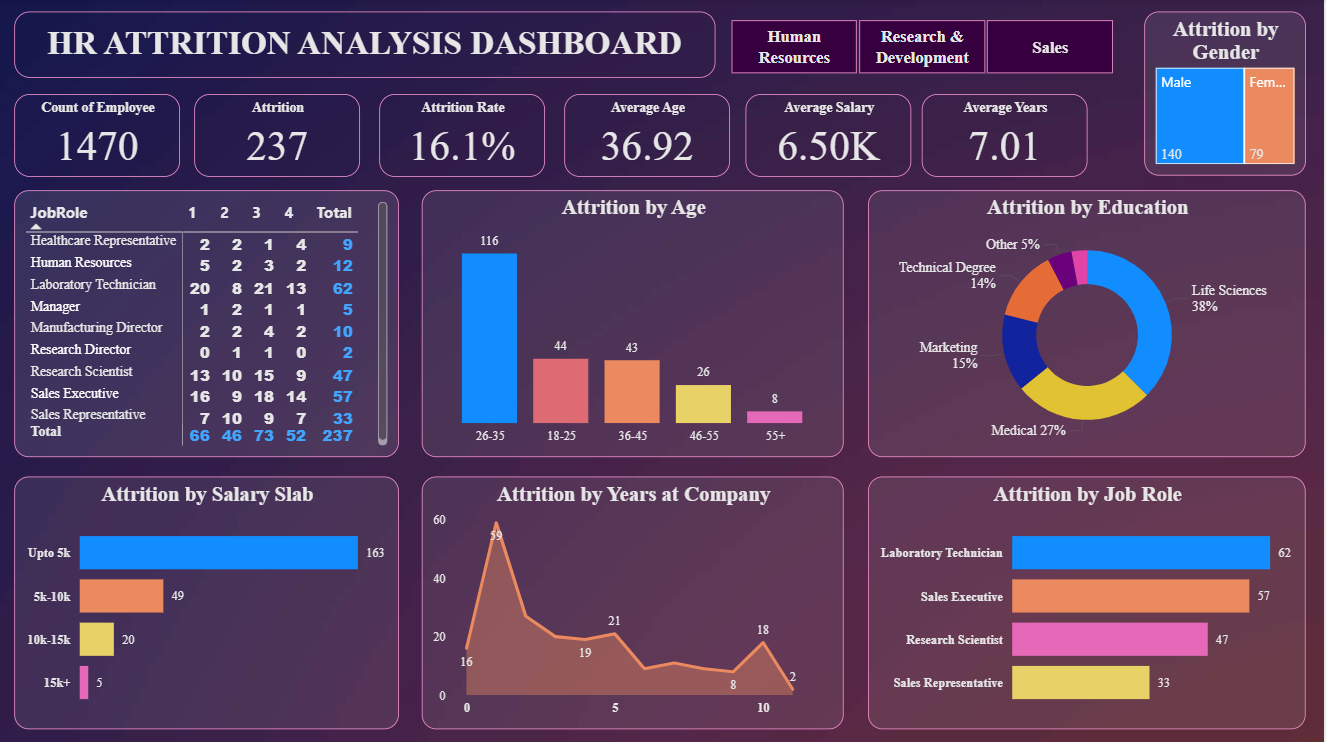

The page's visual inventory and layout, read from the dashboard file:
{"tool":"powerbi","page":{"name":"Page 1","canvas":[1280,720],"ordinal":0},"visuals":[{"type":"card","title":"Count of Employee","fields":{"Values":["CountNonNull(HR_Analytics.EmpID)"]},"box":[16.2,91.2,160,80],"z":0},{"type":"card","title":"Attrition","fields":{"Values":["Sum(HR_Analytics.AttritionCount)"]},"box":[190,91.2,160,80],"z":1000},{"type":"card","title":"Attrition Rate","fields":{"Values":["HR_Analytics.AttritionRate"]},"box":[367.5,91.2,160,80],"z":2000},{"type":"card","title":"Average Age","fields":{"Values":["Avg(HR_Analytics.Age)"]},"box":[546.2,91.2,160,80],"z":3000},{"type":"card","title":"Average Salary","fields":{"Values":["Avg(HR_Analytics.MonthlyIncome)"]},"box":[721.2,91.2,160,80],"z":4000},{"type":"card","title":"Average Years","fields":{"Values":["Avg(HR_Analytics.YearsAtCompany)"]},"box":[891.2,91.2,160,80],"z":5000},{"type":"donutChart","title":"Attrition by Education","fields":{"Y":["Sum(HR_Analytics.AttritionCount)"],"Category":["HR_Analytics.EducationField"]},"box":[840,185,422.5,257.5],"z":6000},{"type":"columnChart","title":"Attrition by Age","fields":{"Category":["HR_Analytics.AgeGroup"],"Y":["Sum(HR_Analytics.AttritionCount)"]},"box":[408.8,185,407.5,257.5],"z":7000},{"type":"pivotTable","fields":{"Rows":["HR_Analytics.JobRole"],"Columns":["HR_Analytics.JobSatisfaction"],"Values":["Sum(HR_Analytics.AttritionCount)"]},"box":[16.2,185,371.2,257.5],"z":8000},{"type":"barChart","title":"Attrition by Job Role","fields":{"Y":["Sum(HR_Analytics.AttritionCount)"],"Category":["HR_Analytics.JobRole"]},"box":[840,461.2,422.5,243.8],"z":9000},{"type":"areaChart","title":"Attrition by Years at Company","fields":{"Category":["HR_Analytics.YearsAtCompany"],"Y":["Sum(HR_Analytics.AttritionCount)"]},"box":[408.8,461.2,407.5,243.8],"z":10000},{"type":"treemap","title":"Attrition by Gender","fields":{"Group":["HR_Analytics.Gender"],"Values":["Sum(HR_Analytics.AttritionCount)"]},"box":[1106.3,12.1,155.6,158],"z":11000},{"type":"slicer","fields":{"Values":["HR_Analytics.Department"]},"box":[681.6,13.3,418.6,63.9],"z":12000},{"type":"barChart","title":"Attrition by Salary Slab","fields":{"Category":["HR_Analytics.SalarySlab"],"Y":["Sum(HR_Analytics.AttritionCount)"]},"box":[16.2,461.2,371.2,243.8],"z":13000},{"type":"textbox","box":[15.7,12.1,676.8,63.9],"z":14000}]}

Visuals, with their boxes in screenshot pixels (x1, y1, x2, y2), scaled from the page's 1280x720 canvas onto the 1326x742 screenshot:
"Count of Employee" card: left=17, top=94, right=183, bottom=176
"Attrition" card: left=197, top=94, right=363, bottom=176
"Attrition Rate" card: left=381, top=94, right=546, bottom=176
"Average Age" card: left=566, top=94, right=732, bottom=176
"Average Salary" card: left=747, top=94, right=913, bottom=176
"Average Years" card: left=923, top=94, right=1089, bottom=176
"Attrition by Education" donutChart: left=870, top=191, right=1308, bottom=456
"Attrition by Age" columnChart: left=423, top=191, right=846, bottom=456
pivotTable - HR_Analytics.JobRole x HR_Analytics.JobSatisfaction: left=17, top=191, right=401, bottom=456
"Attrition by Job Role" barChart: left=870, top=475, right=1308, bottom=727
"Attrition by Years at Company" areaChart: left=423, top=475, right=846, bottom=727
"Attrition by Gender" treemap: left=1146, top=12, right=1307, bottom=175
slicer - HR_Analytics.Department: left=706, top=14, right=1140, bottom=80
"Attrition by Salary Slab" barChart: left=17, top=475, right=401, bottom=727
textbox: left=16, top=12, right=717, bottom=78
